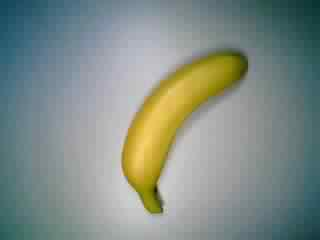banana: (119, 48, 249, 215)
